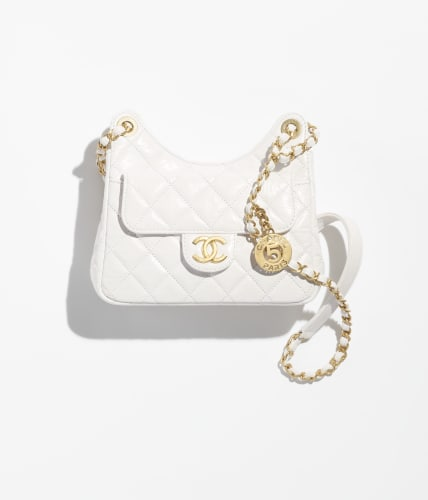channel: (62, 113, 371, 369), (239, 131, 303, 225), (178, 221, 236, 276)
